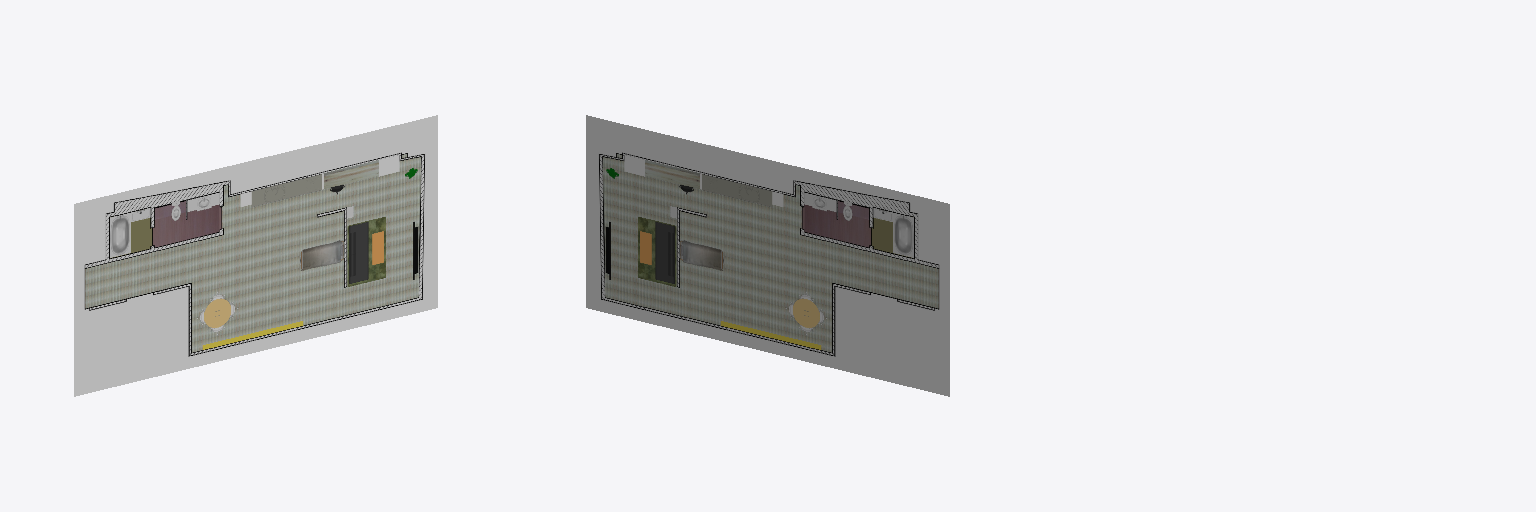
The picture shows the model from 3 angles: view 1: azimuth 30°, elevation 25°; view 2: azimuth 150°, elevation 25°; view 3: azimuth 270°, elevation 25°; orthographic projection.
Visible parts, largest first — view 1: face1; view 2: face1; view 3: none.
Boxes of the visible parts, box(x1,y1,x2,y2) form: face1: box(74, 115, 437, 396); face1: box(586, 115, 949, 396).
Bounding box in the file's own units: 15 × 7.6 × 0.
1 materials, 1 textured.